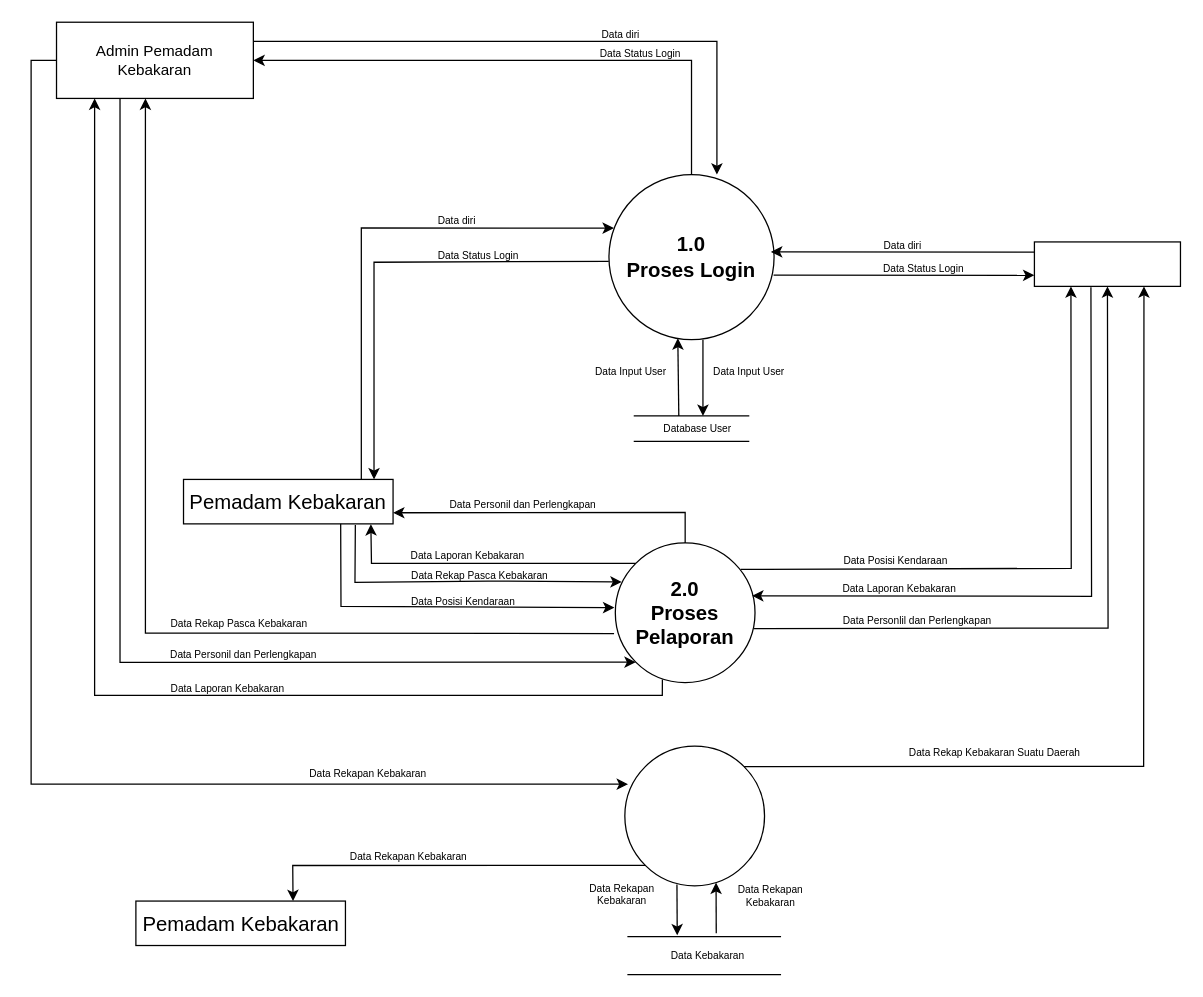
This 1203x997 diagram has some shape labels left out. The centre of each missing label's shape, as x and y in pixels:
3.0 Proses Peninjauan: point (694, 815)
Masyarakat: point (1106, 263)
